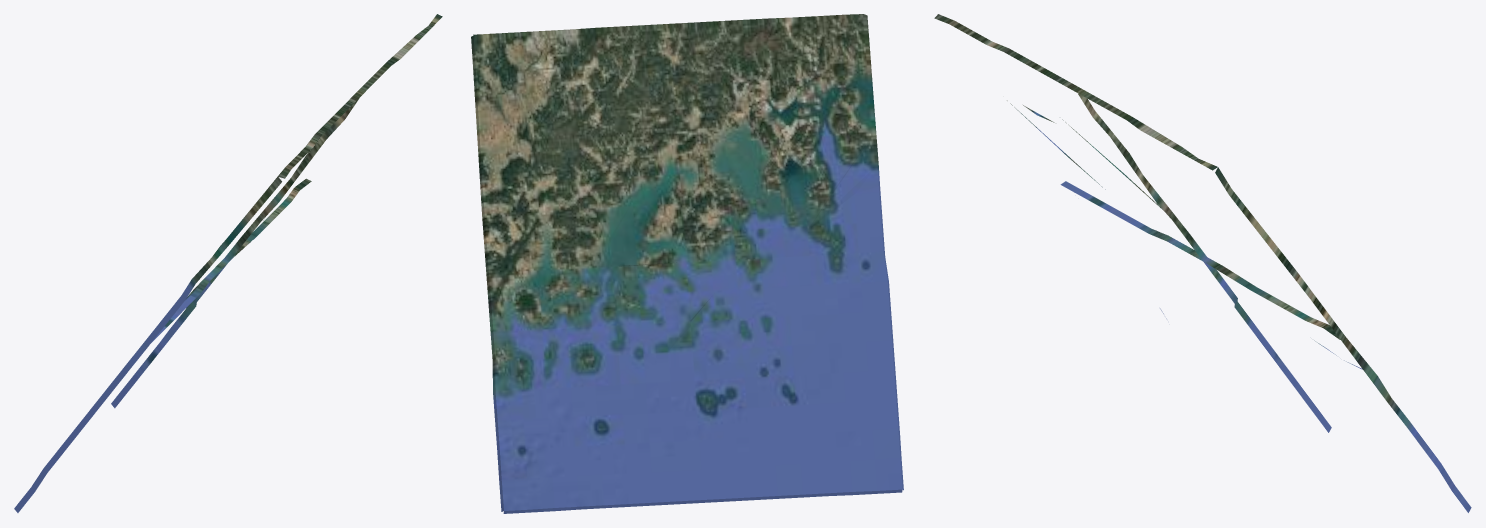
The picture shows the model from 3 angles, left to right: view 1: azimuth 30°, elevation 25°; view 2: azimuth 150°, elevation 25°; view 3: azimuth 270°, elevation 25°; orthographic projection. The views are drawn at different scales.
Bounding box in the file's own units: 157795 × 131625 × 150942.
Materials: 1 (1 with a texture image).
